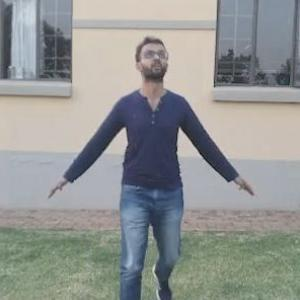land: (11, 19, 258, 294)
